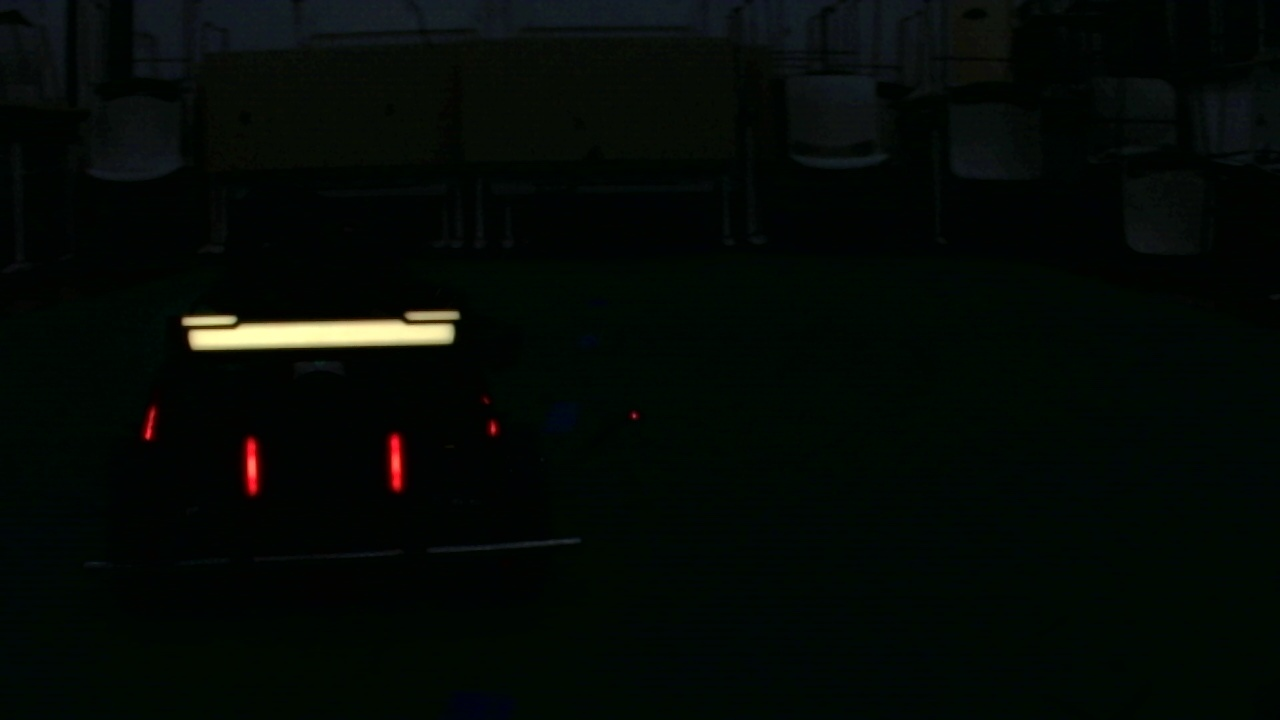lamp: (243, 426, 262, 498), (387, 431, 404, 499), (142, 405, 159, 446)
notpair1: (142, 404, 262, 497)
pair1: (243, 427, 402, 508)
